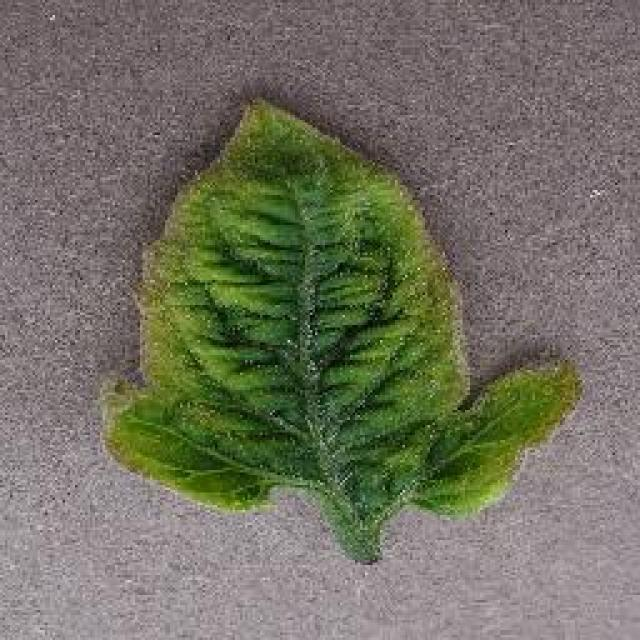Tomato yellow virus leaf: (101, 89, 579, 529)
